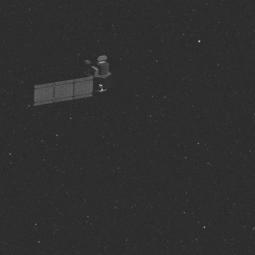earth_observation_sat_1: (61, 50, 117, 111)
